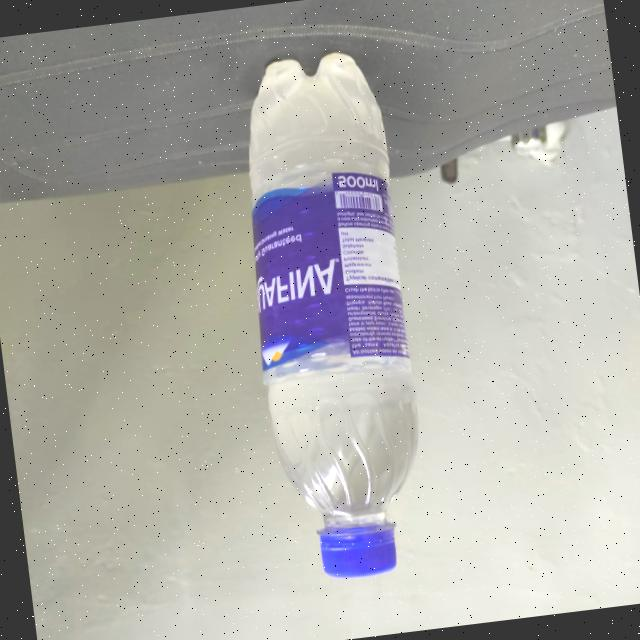bottle: (213, 43, 452, 589)
cap: (309, 506, 411, 578)
label: (242, 174, 416, 377)
